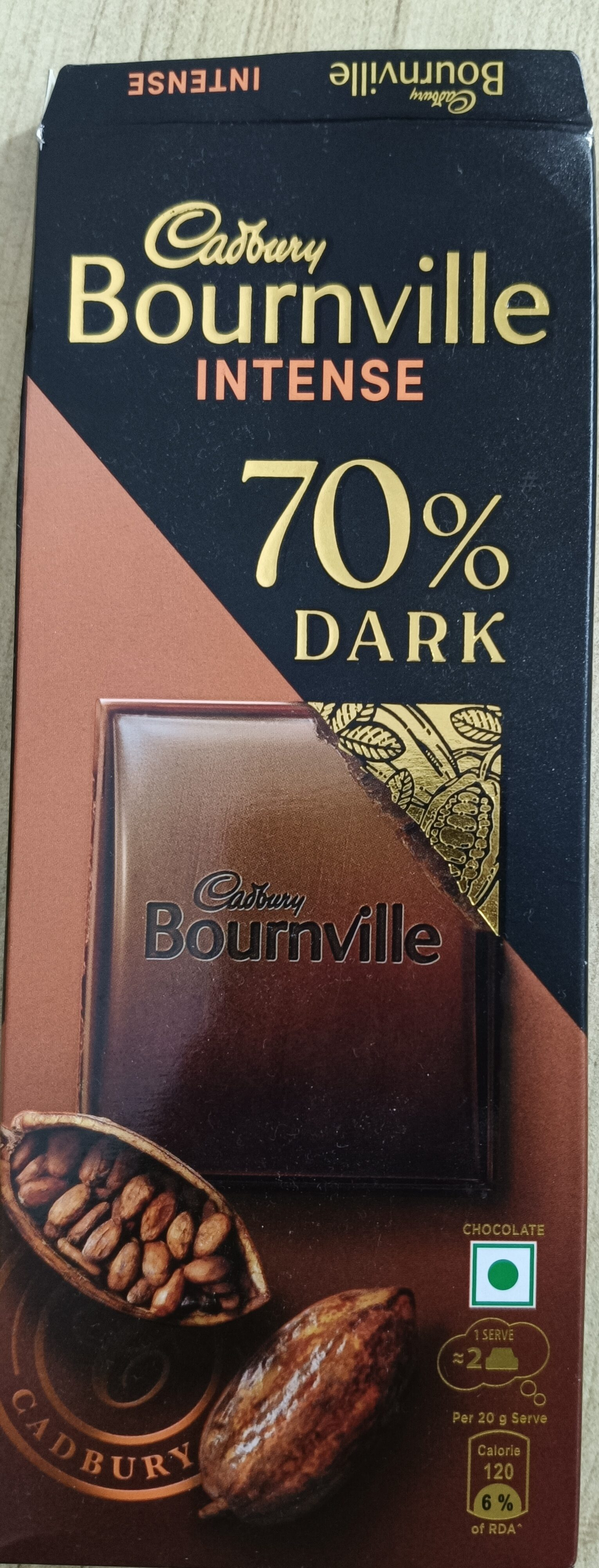Bournville Intense 70% Dark: (54, 141, 545, 1427)
